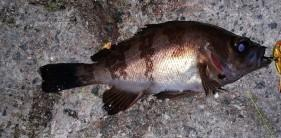fish: (39, 21, 272, 114)
